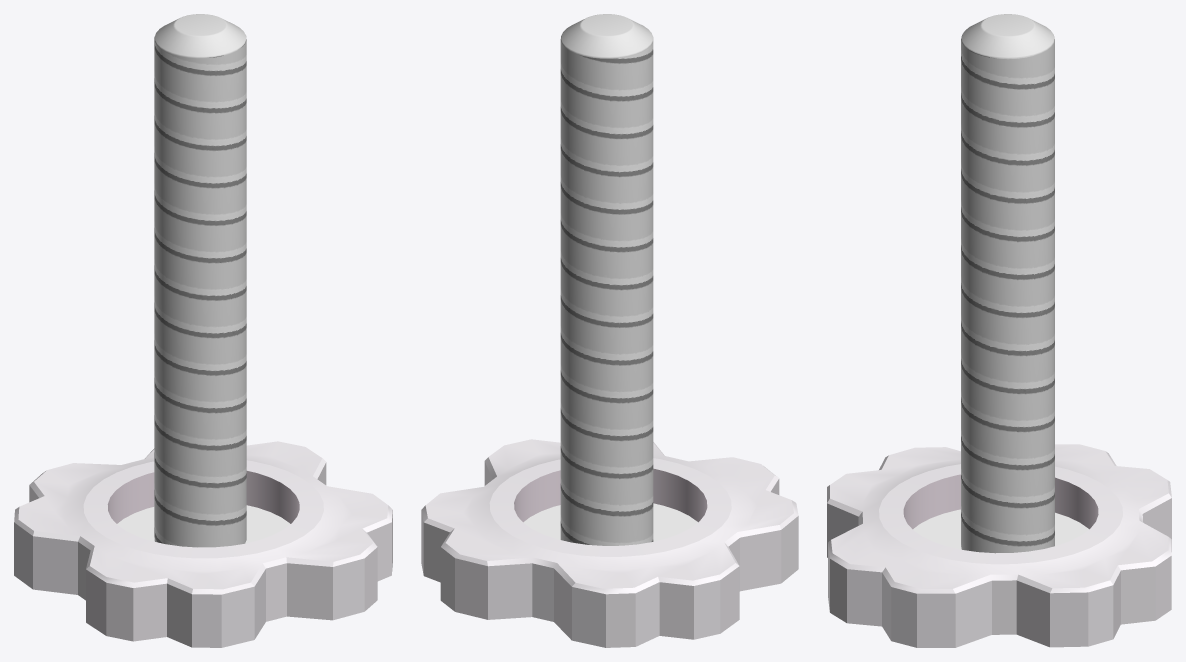
Rendered from holder 2.fbx.
3 renders of one model, left to right at view 1: azimuth 30°, elevation 25°; view 2: azimuth 150°, elevation 25°; view 3: azimuth 270°, elevation 25°, orthographic.
Visible parts, largest first — view 1: Bolt 4.006, Renderer_02.007; view 2: Bolt 4.006, Renderer_02.007; view 3: Bolt 4.006, Renderer_02.007.
Part boxes in pixels (box(x1,y1,x2,y2)): Bolt 4.006: box(14, 441, 392, 647); Renderer_02.007: box(154, 14, 246, 547); Bolt 4.006: box(421, 439, 798, 647); Renderer_02.007: box(560, 14, 653, 545); Bolt 4.006: box(827, 444, 1171, 647); Renderer_02.007: box(961, 14, 1054, 553).
Size of the model in its own units: 2.51 by 4.36 by 2.48.
